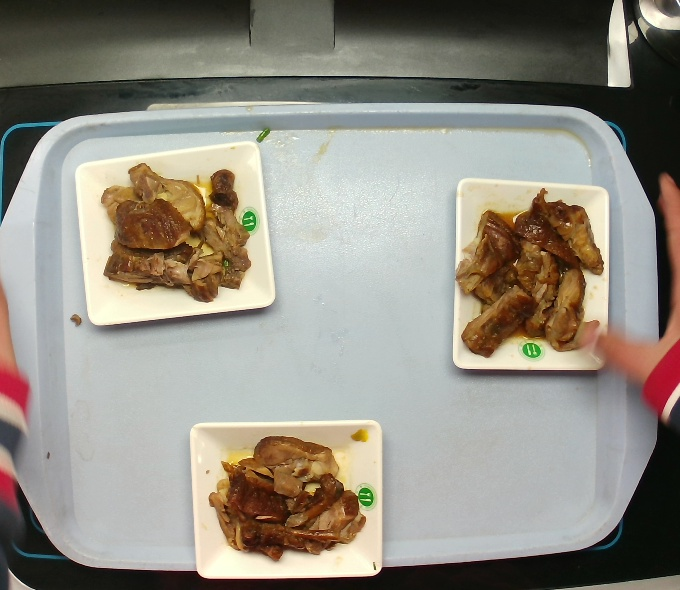wcq-YaRou: (446, 183, 617, 367), (91, 152, 256, 311), (207, 429, 368, 561)
